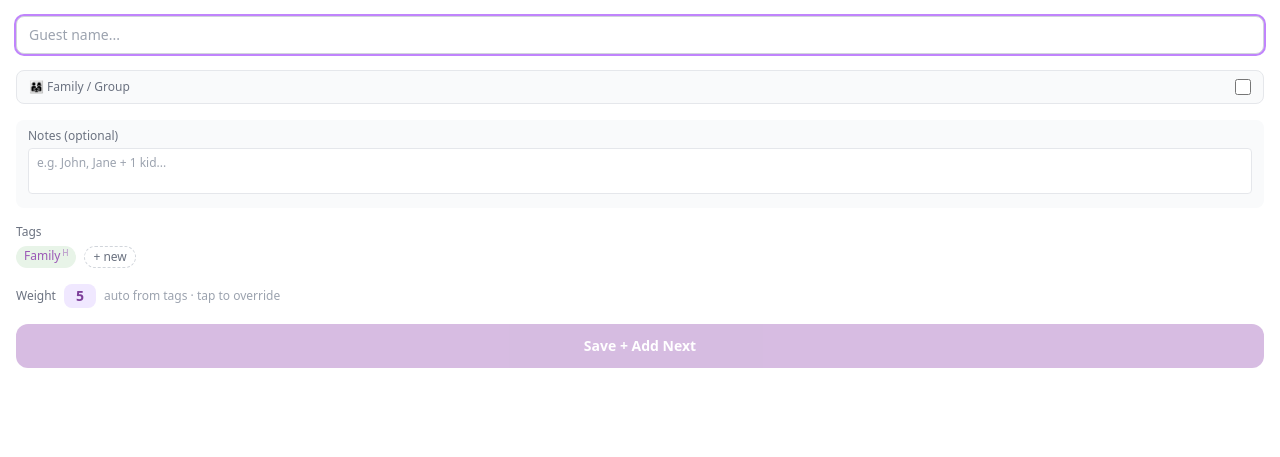
Test: AddGuest › increments adult count with plus button
Click the checkbox labelled "👨‍👩‍👧 Family / Group" at (1243, 87), box [1235,79,1251,95]
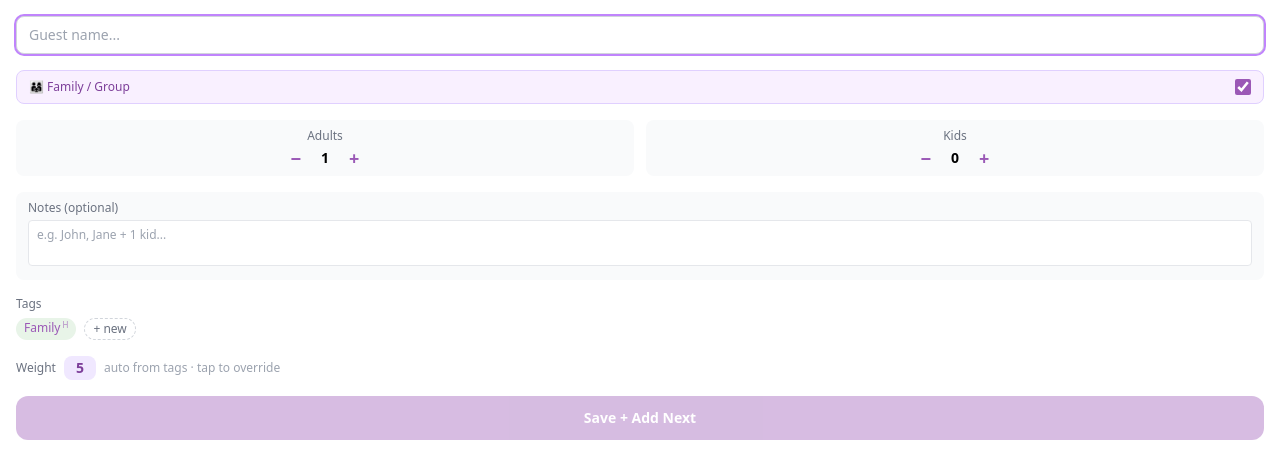
Click the button "+" below "Adults" at (354, 158), box [349,149,359,167]
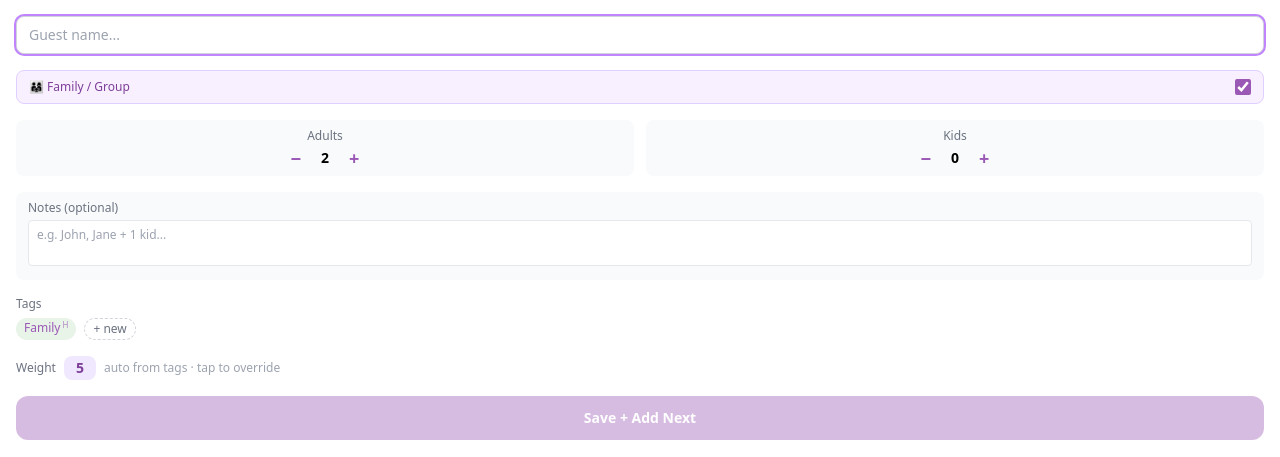
Expected: the text "2" is shown, [321,148,329,167]
